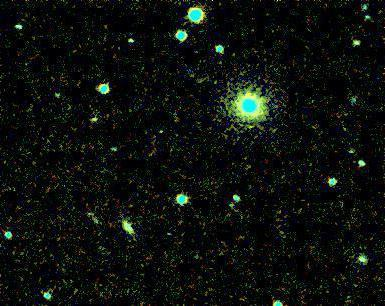star: (144, 115, 174, 145)
